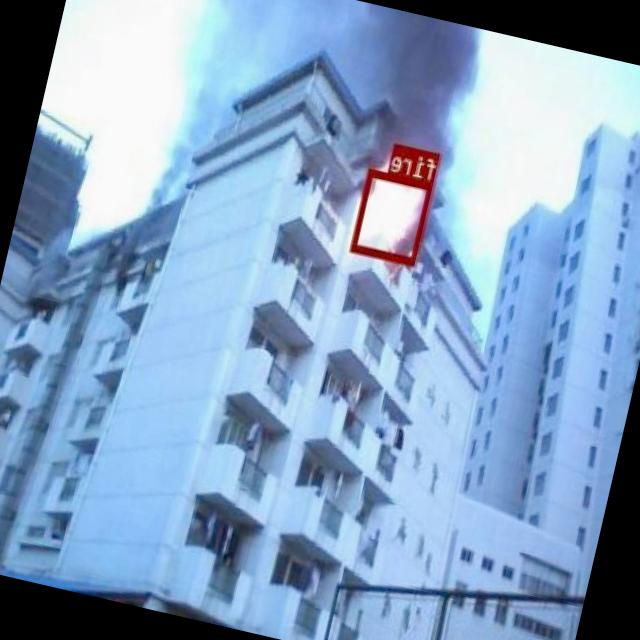fire: (351, 167, 436, 266)
